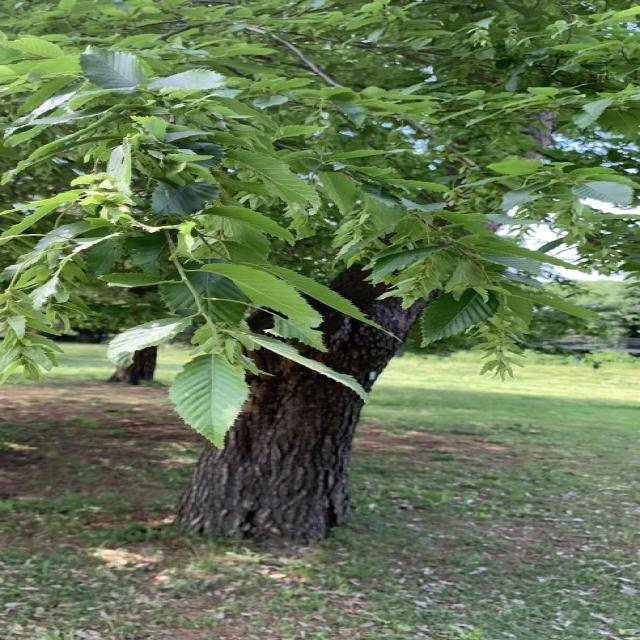zelkova: (0, 0, 640, 549)
